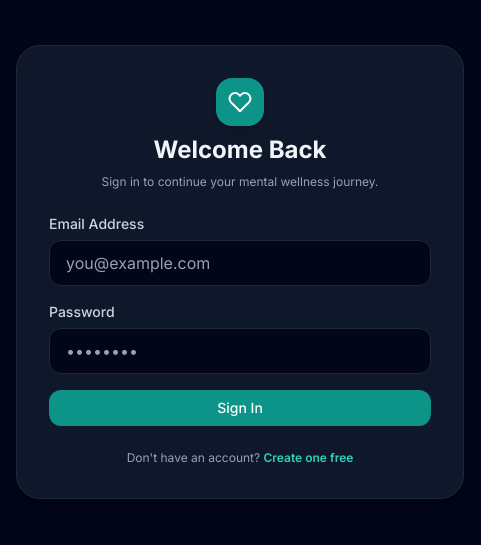
Security & Authentication Error Handling › does not log in and shows error message when login fails
Type "hacker@test.com" into the field with placeholder "you@example.com".
click(240, 263); type("hacker@test.com")  # box [49, 240, 431, 286]
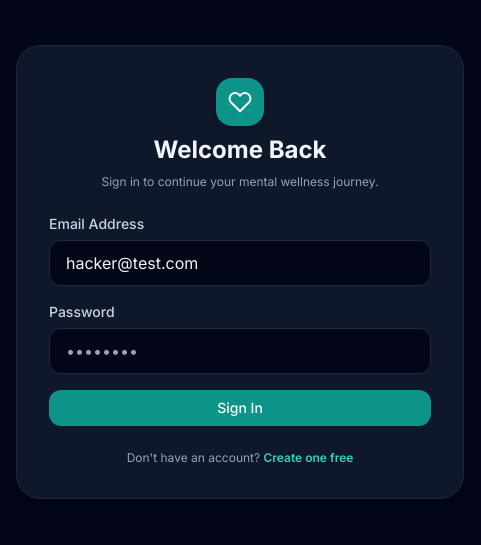
Type "wrongpassword" into the password field with placeholder "••••••••".
click(240, 351); type("wrongpassword")  # box [49, 328, 431, 374]
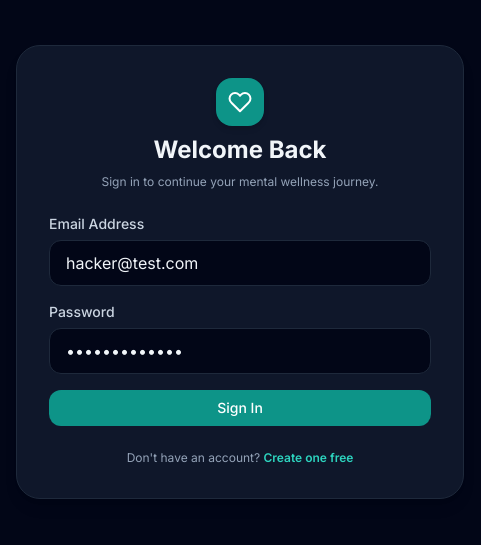
Click the button "Sign In".
click(240, 408)  # box [49, 390, 431, 426]
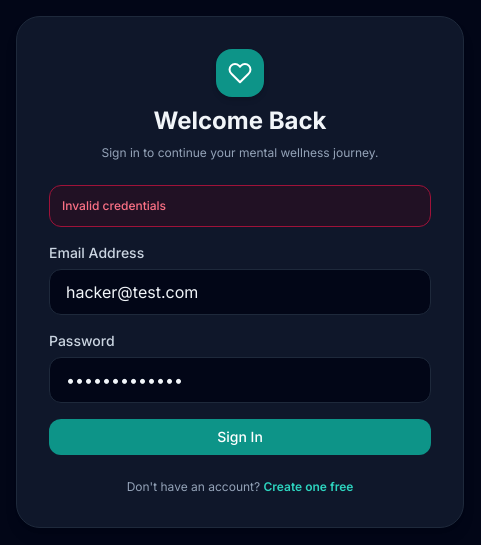
Expected: the text "Invalid credentials" is shown, [49, 185, 431, 227]
